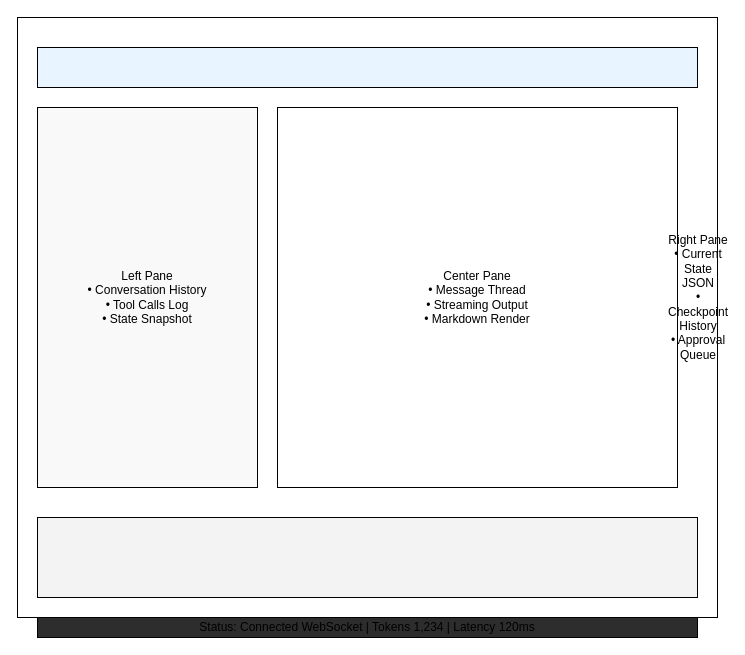
Some shapes in this 745 by 655 pixel diagram are drawn without their labels. Each missing label, with the box of its shape:
Input Area • Textarea • Attach File • Send / Stop Streaming: (36, 516, 698, 598)
Toolbar: Session ID | Phase | PiProvider Status | Settings: (36, 46, 698, 88)
